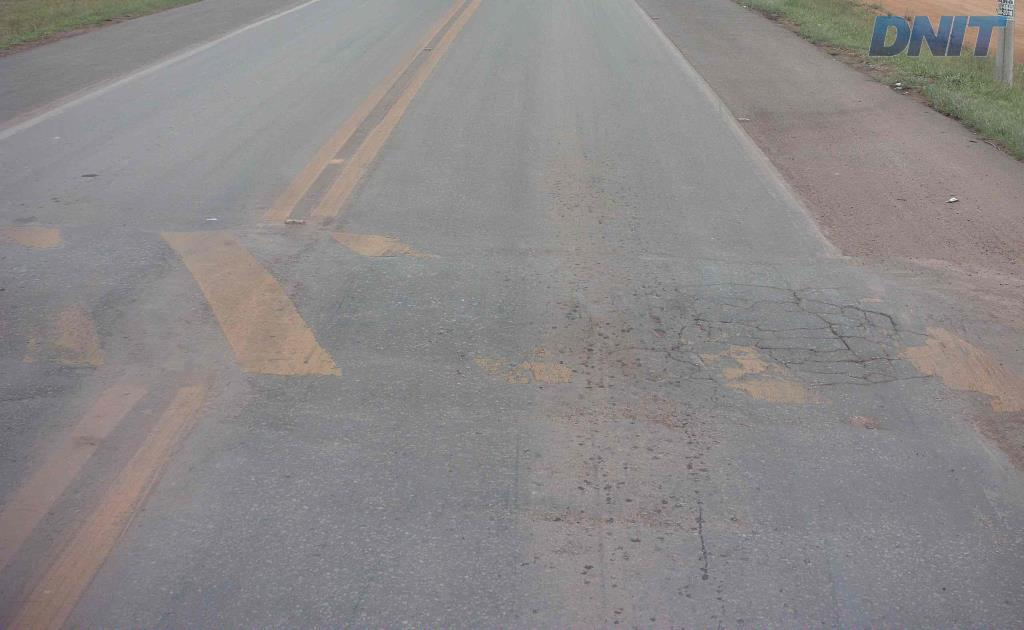crack: (806, 312, 901, 368)
